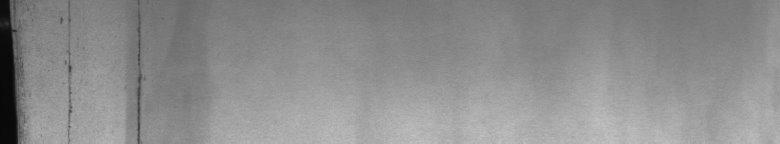hd: (60, 4, 148, 136)
